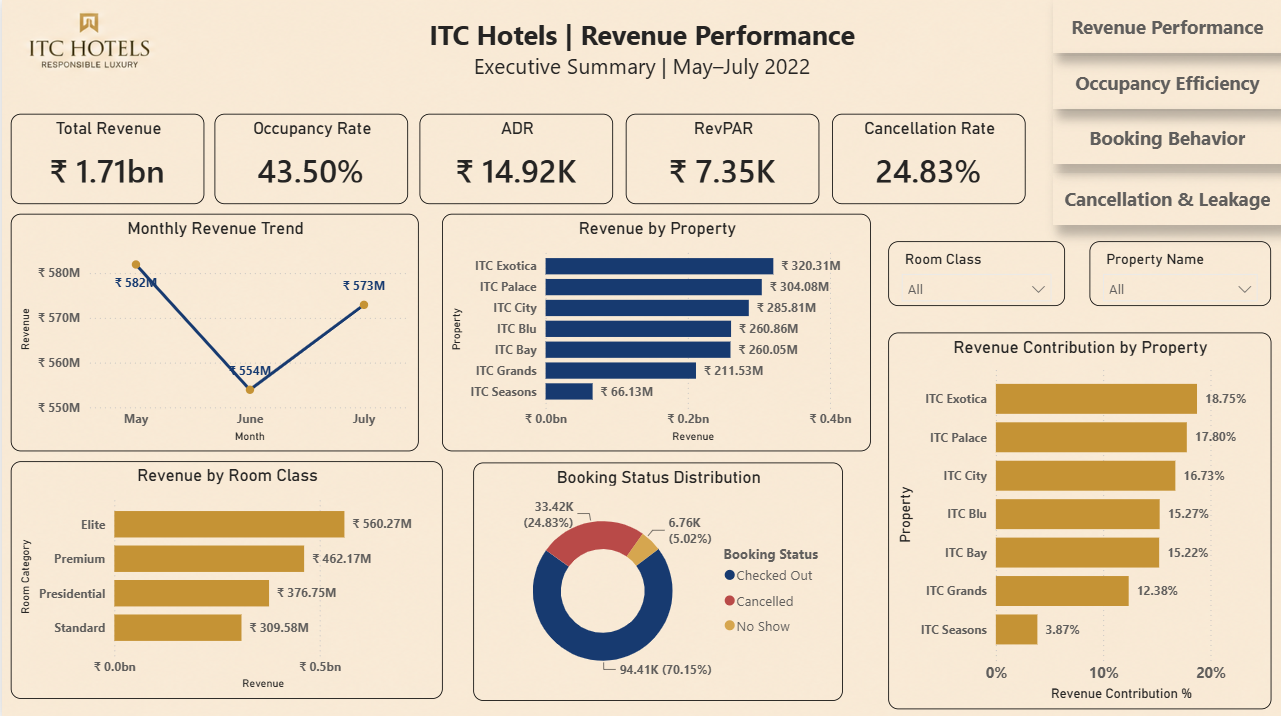

What the dashboard file says about the page in this screenshot:
{"tool":"powerbi","page":{"name":"Executive Summary","canvas":[1280,720],"ordinal":0},"visuals":[{"type":"textbox","box":[418.4,11,442.8,75.9],"z":0},{"type":"cardVisual","title":"Total Revenue","fields":{"Data":["A measures.Total Revenue"]},"box":[8.6,114.1,193.9,90.8],"z":1000},{"type":"cardVisual","title":"Occupancy Rate","fields":{"Data":["A measures.Occupancy Rate"]},"box":[212.3,114.1,193.9,90.8],"z":2000},{"type":"cardVisual","title":"ADR","fields":{"Data":["A measures.ADR"]},"box":[417.2,114.1,193.9,90.8],"z":3000},{"type":"cardVisual","title":"RevPAR","fields":{"Data":["A measures.RevPAR"]},"box":[623.3,114.1,193.9,90.8],"z":4000},{"type":"cardVisual","title":"Cancellation Rate","fields":{"Data":["A measures.Cancellation Rate"]},"box":[829.5,114.1,193.9,90.8],"z":5000},{"type":"lineChart","title":"Monthly Revenue Trend","fields":{"Category":["Date Table.Date.Variation.Date Hierarchy.Month"],"Y":["A measures.Total Revenue"]},"box":[8.6,213.5,408,237.6],"z":6000},{"type":"clusteredBarChart","title":"Revenue by Property","fields":{"Category":["hotels.Property Name"],"Y":["A measures.Total Revenue"]},"box":[440.5,213.5,429.2,237.6],"z":7000},{"type":"clusteredBarChart","title":"Revenue by Room Class","fields":{"Category":["rooms.Room Class"],"Y":["A measures.Total Revenue"]},"box":[8.6,461.4,431.7,237.6],"z":8000},{"type":"donutChart","title":"Booking Status Distribution","fields":{"Category":["bookings.Booking Status"],"Y":["CountNonNull(bookings.Booking Id)"]},"box":[471.2,462.6,369.3,238],"z":9000},{"type":"clusteredBarChart","title":"Revenue Contribution by Property","fields":{"Category":["hotels.Property Name"],"Y":["A measures.Revenue Contribution %"]},"box":[885.9,332.5,382.8,376.7],"z":10000},{"type":"slicer","fields":{"Values":["hotels.Property Name"]},"box":[1087.1,241.7,181.6,65],"z":11000},{"type":"slicer","fields":{"Values":["rooms.Room Class"]},"box":[885.9,241.7,176.7,65],"z":12000},{"type":"actionButton","box":[1051.5,0,228.2,52.8],"z":13000},{"type":"actionButton","box":[1051.5,56.4,228.2,52.8],"z":14000},{"type":"actionButton","box":[1051.5,111.7,228.2,52.8],"z":15000},{"type":"actionButton","box":[1051.5,173,228.2,52.8],"z":17000}]}

Visuals, with their boxes in screenshot pixels (x1, y1, x2, y2), scaled from the page's 1280x720 canvas onto the 1281x716 screenshot:
textbox: bbox=(419, 11, 862, 86)
"Total Revenue" cardVisual: bbox=(9, 113, 203, 204)
"Occupancy Rate" cardVisual: bbox=(212, 113, 407, 204)
"ADR" cardVisual: bbox=(418, 113, 612, 204)
"RevPAR" cardVisual: bbox=(624, 113, 818, 204)
"Cancellation Rate" cardVisual: bbox=(830, 113, 1024, 204)
"Monthly Revenue Trend" lineChart: bbox=(9, 212, 417, 449)
"Revenue by Property" clusteredBarChart: bbox=(441, 212, 870, 449)
"Revenue by Room Class" clusteredBarChart: bbox=(9, 459, 441, 695)
"Booking Status Distribution" donutChart: bbox=(472, 460, 841, 697)
"Revenue Contribution by Property" clusteredBarChart: bbox=(887, 331, 1270, 705)
slicer - hotels.Property Name: bbox=(1088, 240, 1270, 305)
slicer - rooms.Room Class: bbox=(887, 240, 1063, 305)
actionButton: bbox=(1052, 0, 1280, 53)
actionButton: bbox=(1052, 56, 1280, 109)
actionButton: bbox=(1052, 111, 1280, 164)
actionButton: bbox=(1052, 172, 1280, 225)
